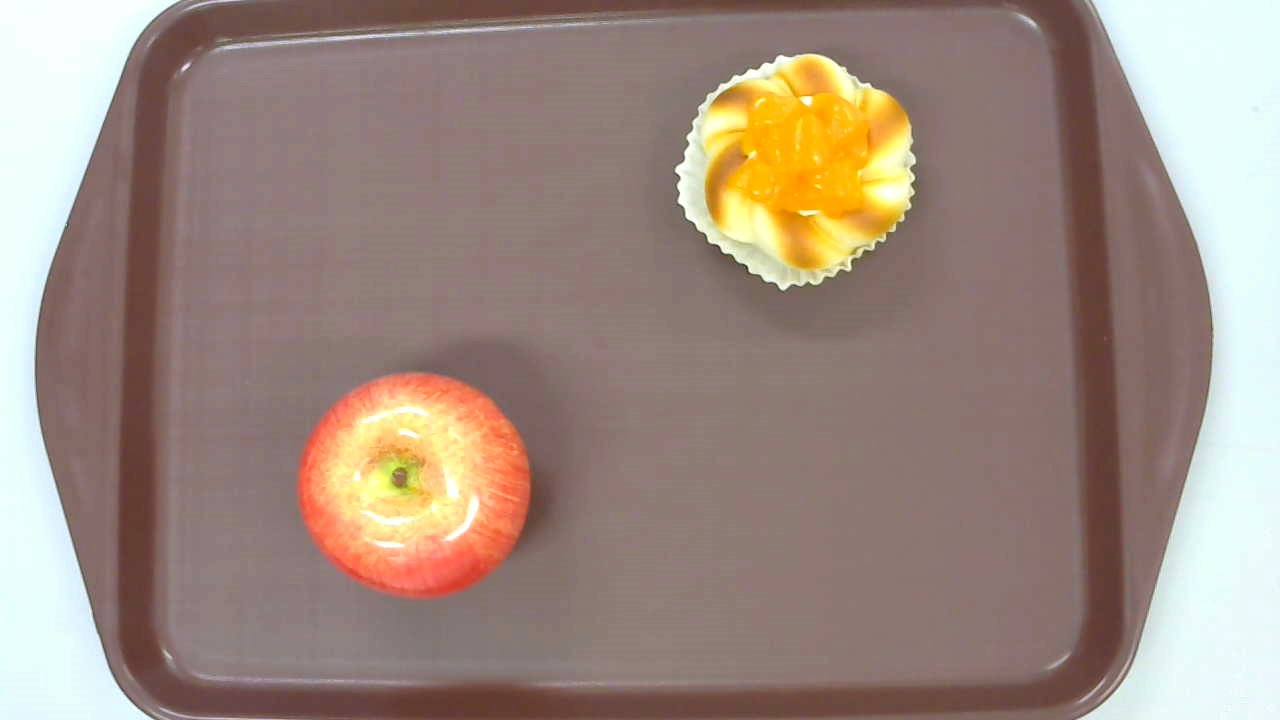mango tart: (673, 53, 919, 293)
red apple: (297, 372, 533, 597)
